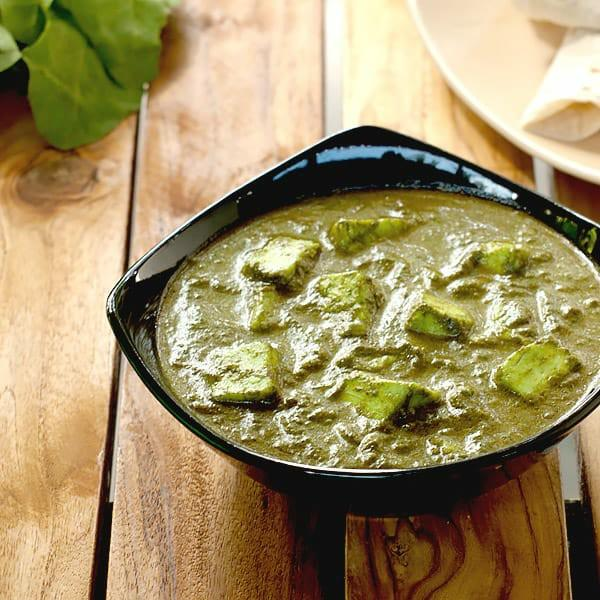PalakPaneer: (148, 188, 600, 469)
